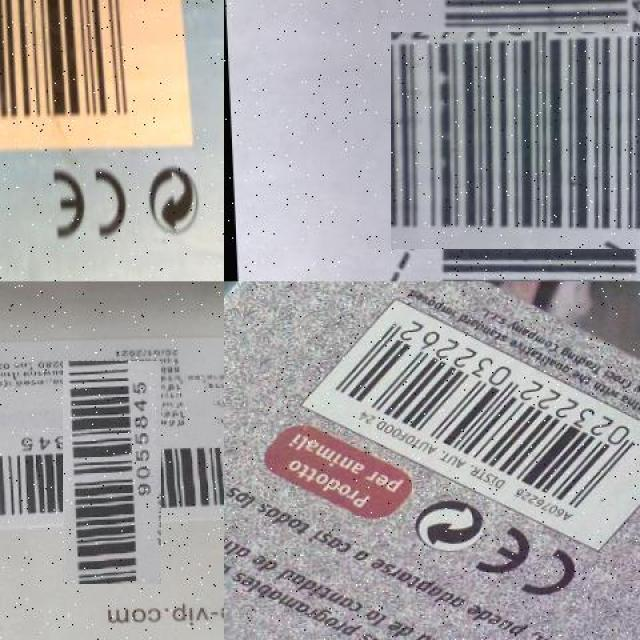Barcode: (295, 282, 640, 558), (407, 16, 640, 265), (0, 0, 191, 156), (31, 391, 192, 553)
